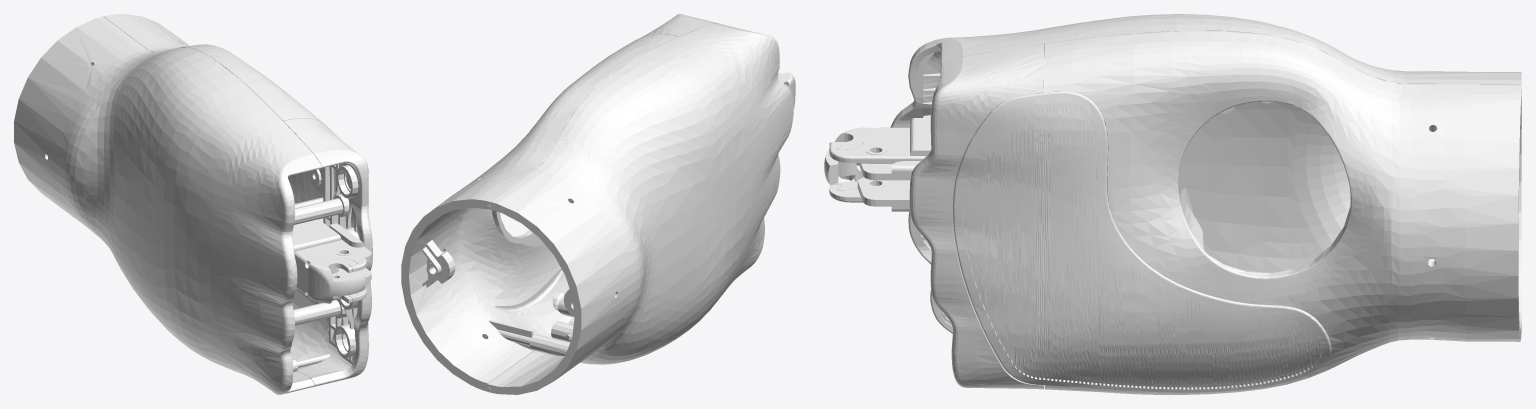
File: rh_hand_base_link_vis.obj
The picture shows the model from 3 angles, left to right: view 1: azimuth 30°, elevation 25°; view 2: azimuth 150°, elevation 25°; view 3: azimuth 270°, elevation 25°; orthographic projection. The views are drawn at different scales.
Parts seen in each view (by area): view 1: rh_hand_base_link; view 2: rh_hand_base_link; view 3: rh_hand_base_link.
Boxes of the visible parts, box(x1,y1,x2,y2) form: rh_hand_base_link: box(14, 14, 372, 394); rh_hand_base_link: box(401, 14, 795, 394); rh_hand_base_link: box(824, 14, 1521, 394).
Size of the model in its own units: 0.0642 by 0.0927 by 0.1651.
Materials: 1 (1 with a texture image).
